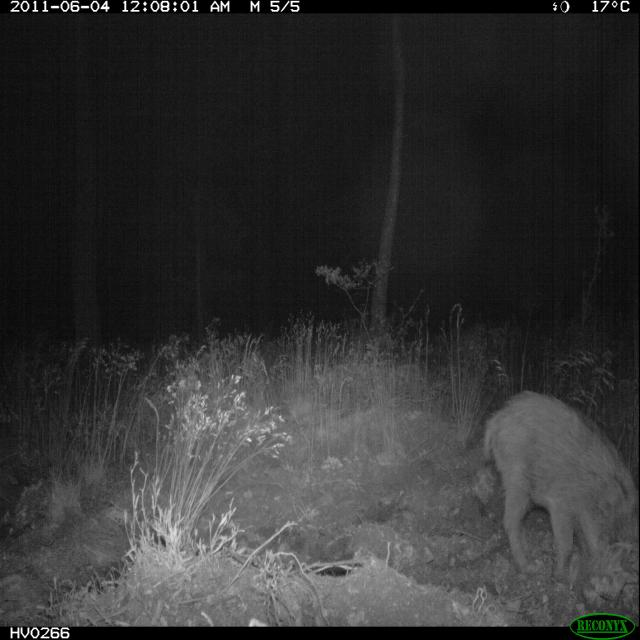boar: (464, 378, 639, 600)
